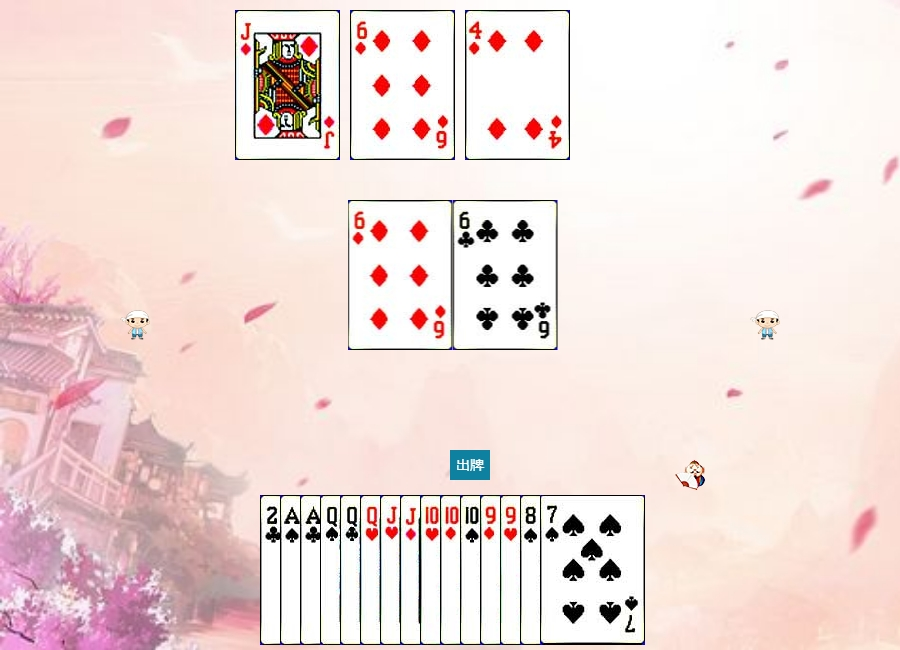10~1: (440, 495, 545, 645)
10~3: (420, 495, 525, 645)
10~4: (460, 495, 565, 645)
11~1: (235, 10, 340, 160), (400, 495, 505, 645)
11~3: (380, 495, 485, 645)
12~2: (340, 495, 445, 645)
12~3: (360, 495, 465, 645)
12~4: (320, 495, 425, 645)
14~2: (300, 495, 405, 645)
14~4: (280, 495, 385, 645)
15~2: (260, 495, 365, 645)
4~1: (465, 10, 570, 160)
6~1: (350, 10, 455, 160), (348, 200, 453, 350)
6~2: (453, 200, 558, 350)
7~4: (540, 495, 645, 645)
8~4: (520, 495, 625, 645)
9~1: (480, 495, 585, 645)
9~3: (500, 495, 605, 645)
